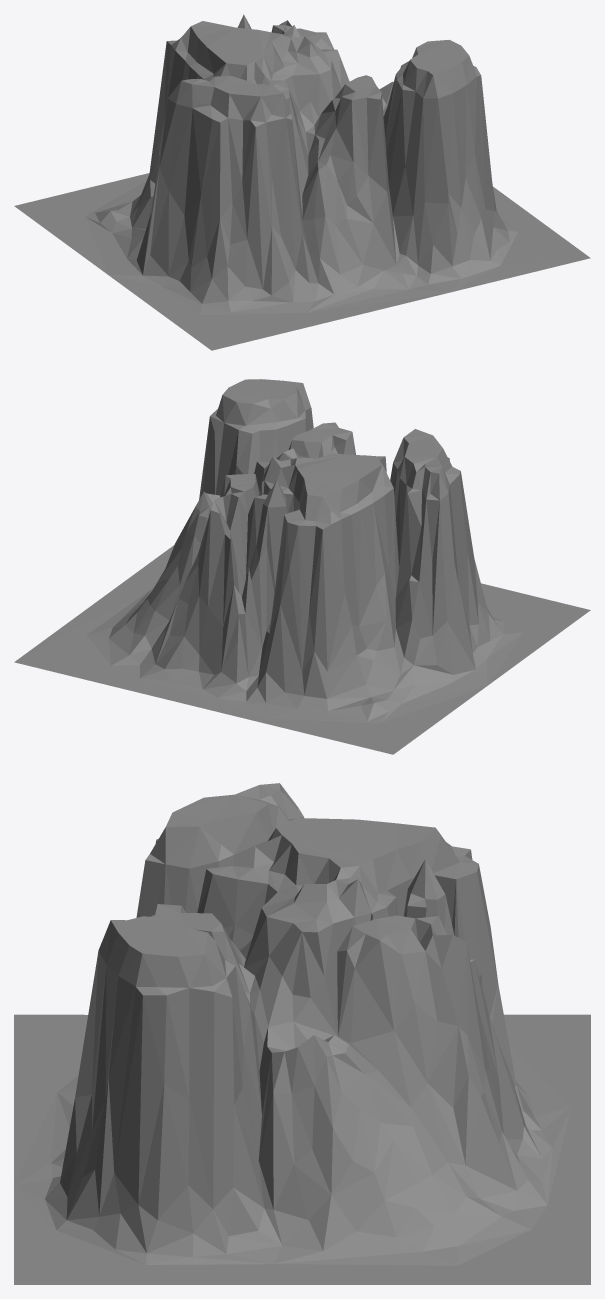
File: cliff.fbx
3 views of the same model, one above another, from view 1: azimuth 30°, elevation 25°; view 2: azimuth 150°, elevation 25°; view 3: azimuth 270°, elevation 25° (orthographic). The views are drawn at different scales.
Visible parts, largest first — view 1: Landscape; view 2: Landscape; view 3: Landscape.
Part boxes in pixels (left/top/right/bottom): Landscape: left=14, top=14, right=590, bottom=350; Landscape: left=14, top=379, right=590, bottom=754; Landscape: left=14, top=783, right=590, bottom=1284.
Size of the model in its own units: 222 by 107 by 200.
Materials: 1 (1 with a texture image).
